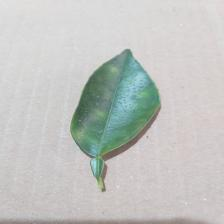greening: (69, 63, 166, 146)
